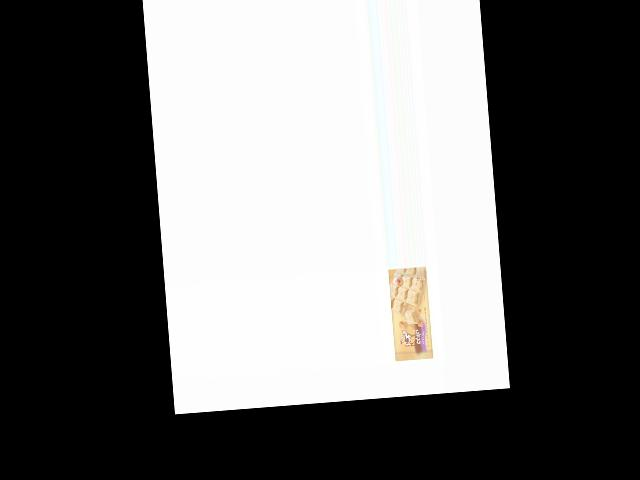chocolate: (388, 266, 436, 364)
